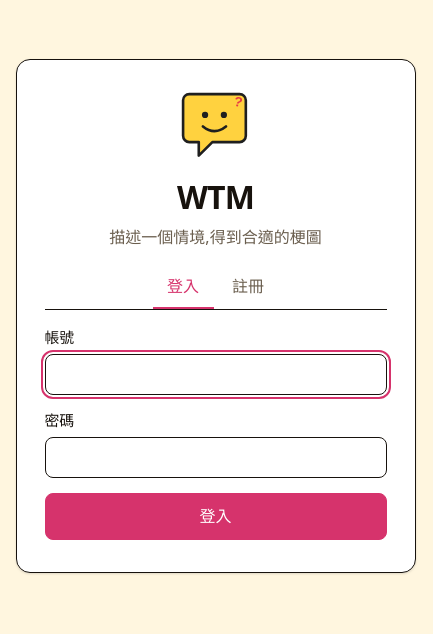
Test case: LoginPage › forgets the error when the visitor switches tabs
Type "frank" into the field labelled "帳號" at (216, 374), box [44,354,386,395]
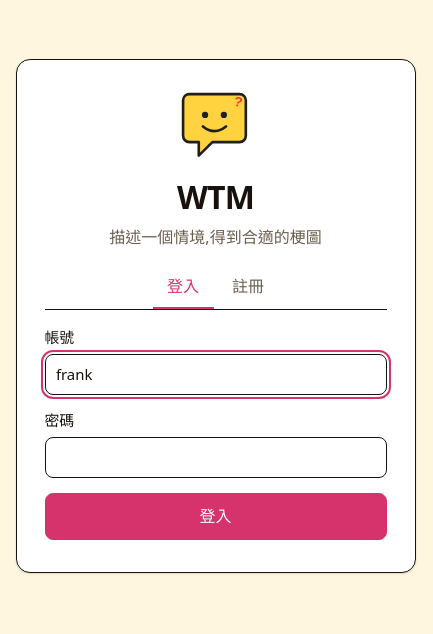
Type "nope" into the password field labelled "密碼" at (216, 458), box [44,437,386,478]
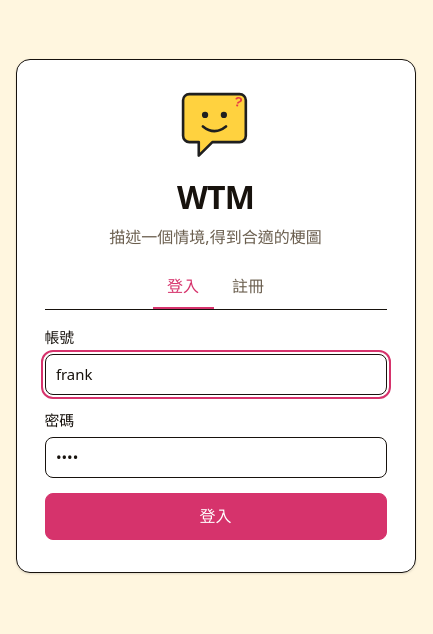
Click the button "登入" at (216, 516), box [44,493,386,540]
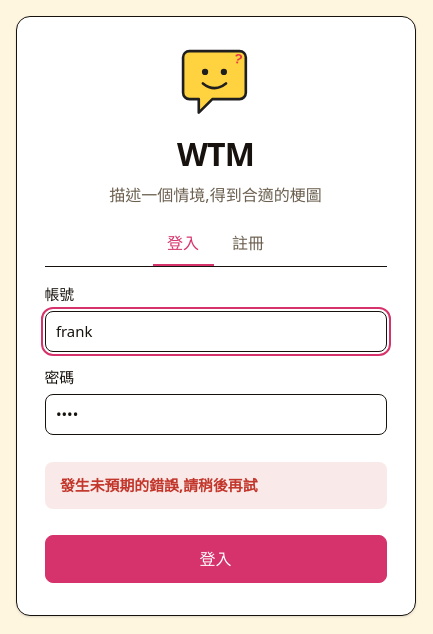
Now the message "發生未預期的錯誤,請稍後再試" is shown, box [44,462,386,509]
Click the tab "註冊" at (248, 245), box [218,223,278,266]
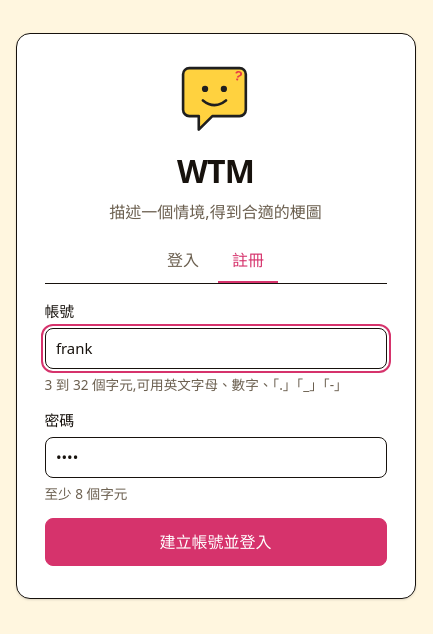
Now the message "發生未預期的錯誤,請稍後再試" is gone
